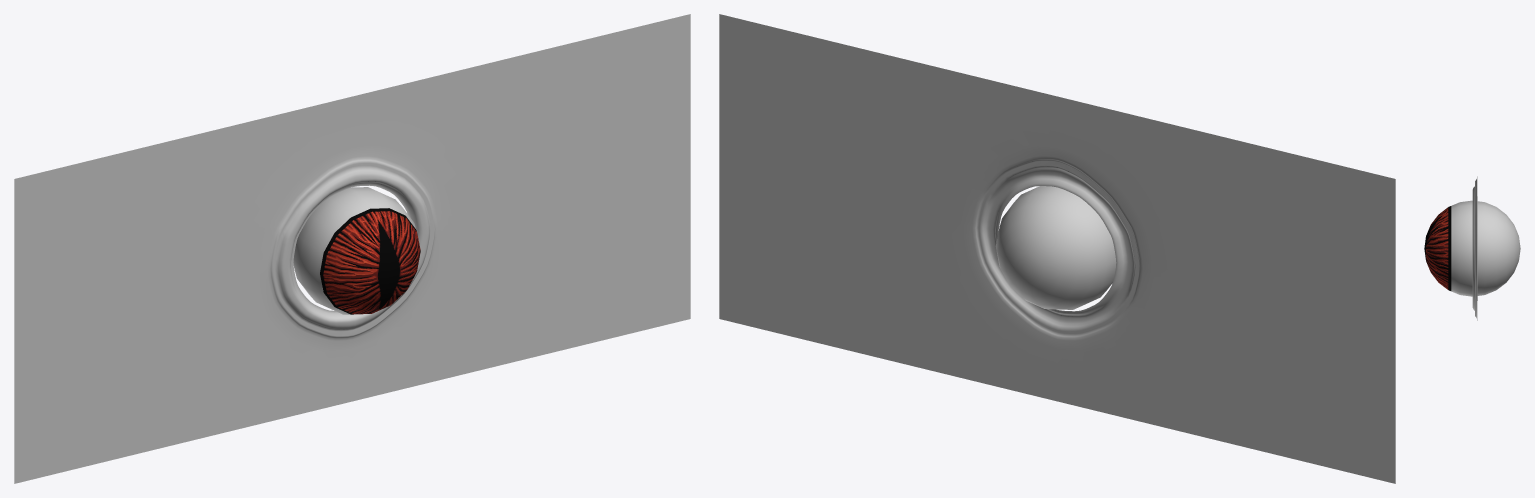
3 renders of one model, left to right at view 1: azimuth 30°, elevation 25°; view 2: azimuth 150°, elevation 25°; view 3: azimuth 270°, elevation 25°, orthographic. The views are drawn at different scales.
Visible parts, largest first — view 1: fundo, olho; view 2: fundo, olho; view 3: olho, fundo.
Part boxes in pixels (bbox=[...]): fundo: bbox=[14, 14, 690, 483]; olho: bbox=[293, 187, 420, 314]; fundo: bbox=[719, 14, 1395, 483]; olho: bbox=[995, 186, 1116, 309]; olho: bbox=[1424, 200, 1520, 296]; fundo: bbox=[1472, 176, 1477, 320].
Bounding box in the file's own units: 9.49 × 4.09 × 1.58.
